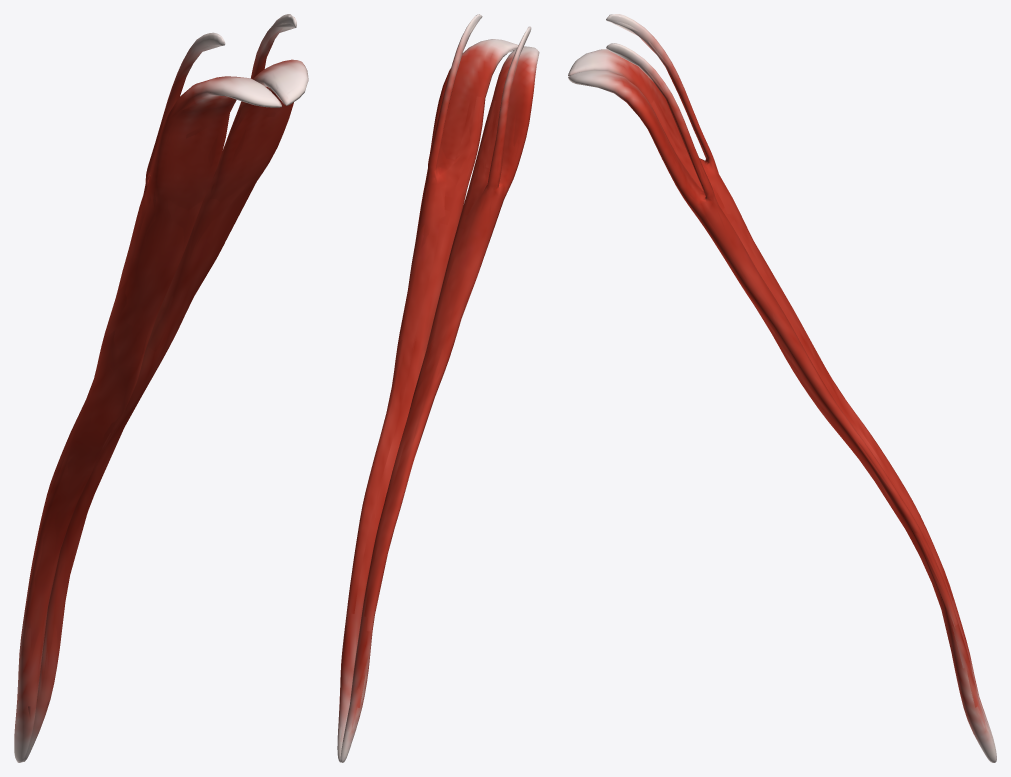
File: sternohyoideus.fbx
The picture shows the model from 3 angles, left to right: view 1: azimuth 30°, elevation 25°; view 2: azimuth 150°, elevation 25°; view 3: azimuth 270°, elevation 25°; orthographic projection. The views are drawn at different scales.
Visible parts, largest first — view 1: sternohyoideus, sternohyoideus low; view 2: sternohyoideus, sternohyoideus low; view 3: sternohyoideus, sternohyoideus low.
Part boxes in pixels (x1=…): sternohyoideus: x1=14, y1=14, x2=308, y2=762; sternohyoideus low: x1=15, y1=14, x2=307, y2=761; sternohyoideus: x1=337, y1=14, x2=539, y2=762; sternohyoideus low: x1=338, y1=14, x2=538, y2=742; sternohyoideus: x1=568, y1=14, x2=996, y2=762; sternohyoideus low: x1=569, y1=14, x2=992, y2=761.
Size of the model in its own units: 9.33 by 61.96 by 32.82.
